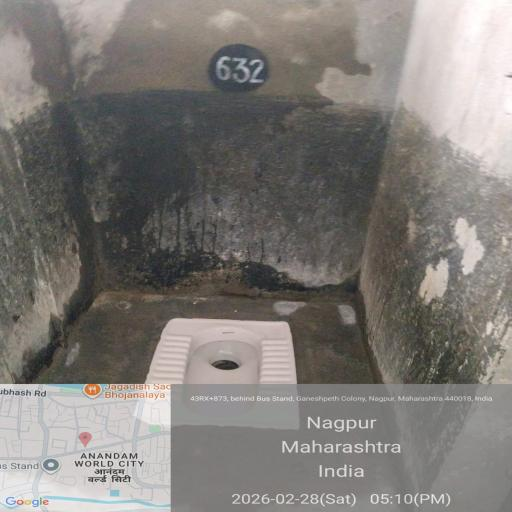clean_indian: (157, 313, 299, 394)
dirty_floor: (36, 68, 379, 294), (361, 150, 512, 377), (0, 136, 99, 362)
partial_dirty_floor: (55, 285, 383, 390)
